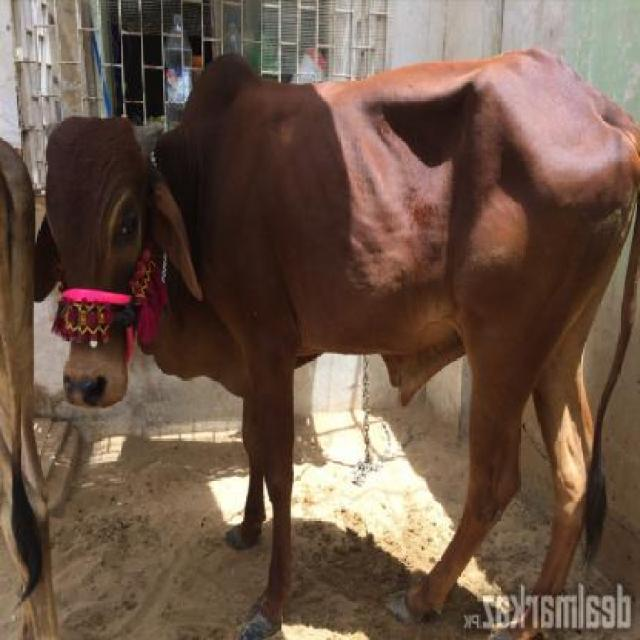Cow: (23, 44, 639, 638)
